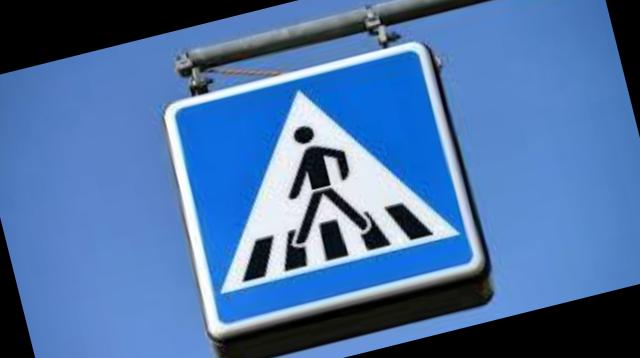crosswalk-sign: (149, 34, 498, 358)
